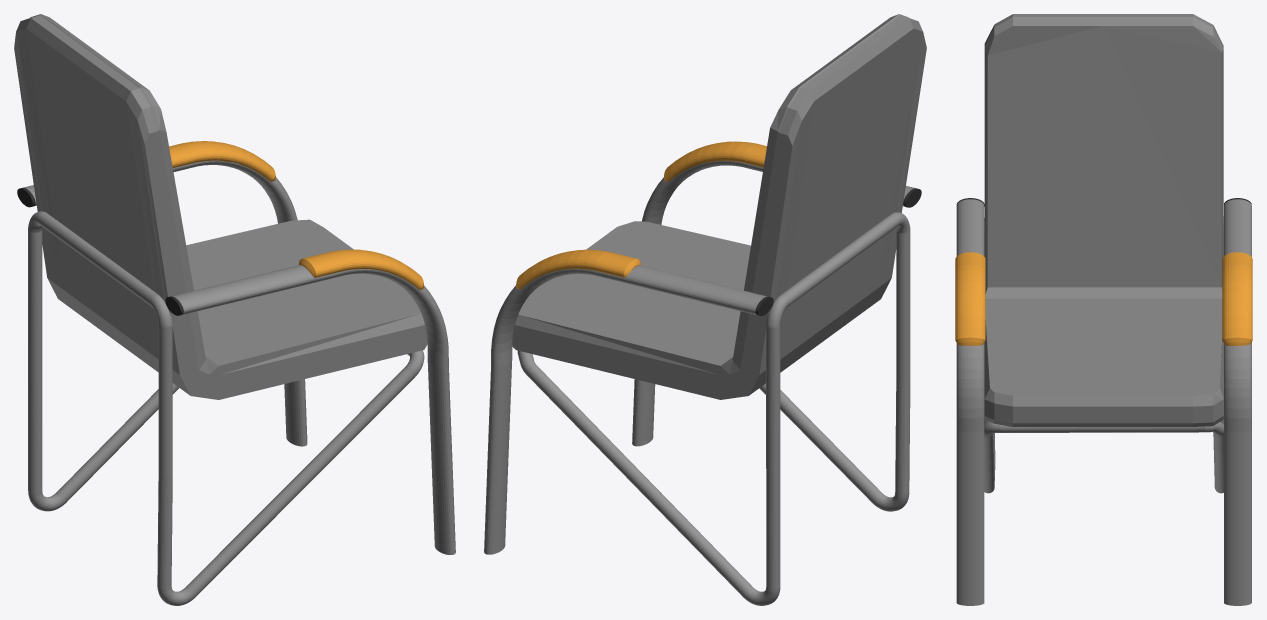
Rendered from lectorium_chair_visual_light-grey.dae.
3 views of the same model, side by side, from view 1: azimuth 30°, elevation 25°; view 2: azimuth 150°, elevation 25°; view 3: azimuth 270°, elevation 25° (orthographic). The views are drawn at different scales.
Parts seen in each view (by area): view 1: Cube_005; view 2: Cube_005; view 3: Cube_005.
Boxes of the visible parts, left/top/right/bottom form: Cube_005: left=14, top=14, right=455, bottom=605; Cube_005: left=484, top=14, right=926, bottom=605; Cube_005: left=955, top=14, right=1252, bottom=605.
Size of the model in its own units: 43.49 by 40.96 by 70.38.
